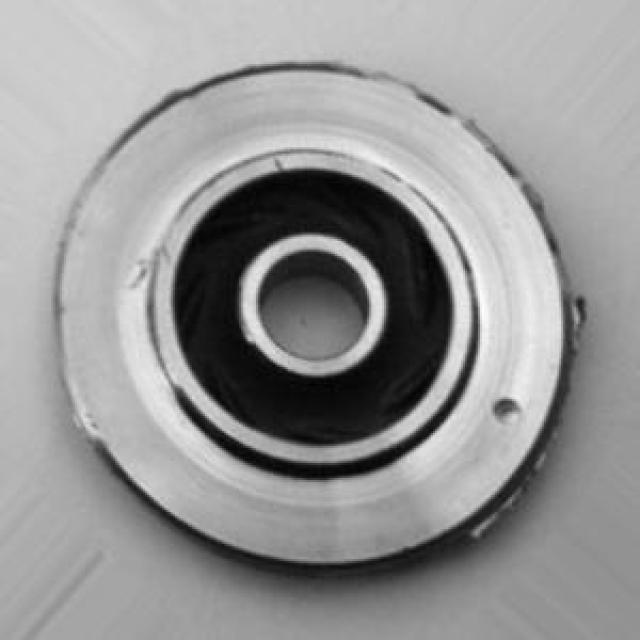Defect: (493, 395, 528, 424)
